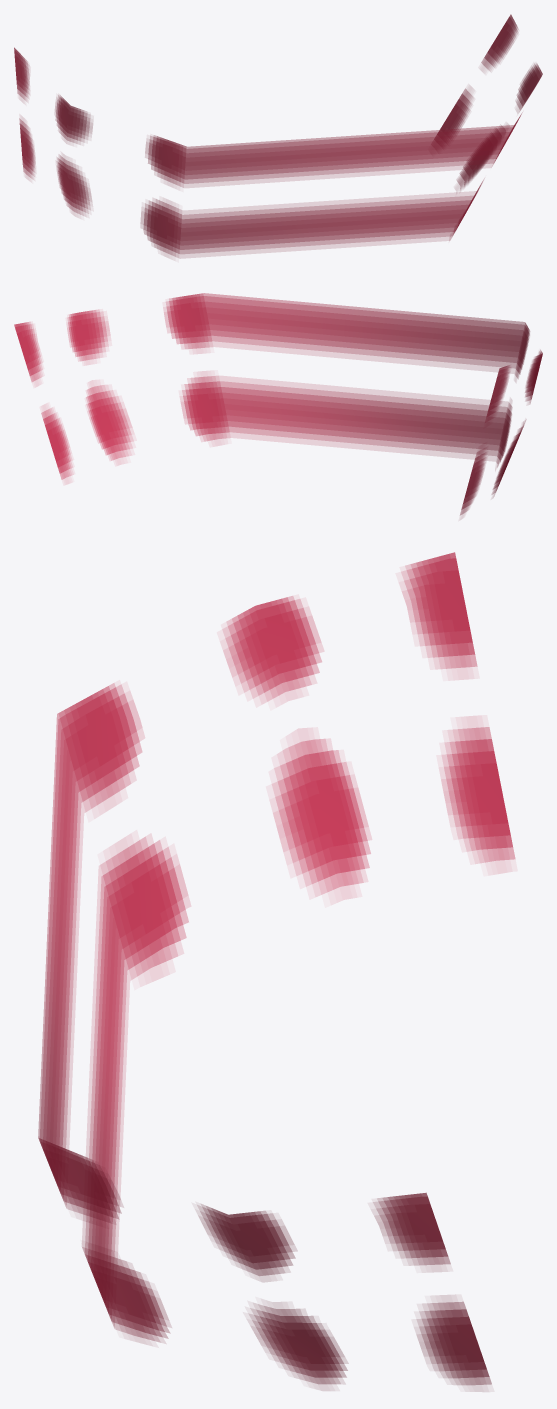
3 views of the same model, one above another, from view 1: azimuth 30°, elevation 25°; view 2: azimuth 150°, elevation 25°; view 3: azimuth 270°, elevation 25° (orthographic). The views are drawn at different scales.
Visible parts, largest first — view 1: ef_414; view 2: ef_414; view 3: ef_414.
Part boxes in pixels (box(x1,y1,x2,y2)): ef_414: box(14, 14, 542, 258); ef_414: box(14, 293, 542, 519); ef_414: box(38, 552, 515, 1391).
Size of the model in its own units: 0.9796 by 0.4274 by 0.4164.
1 material, 1 textured.
